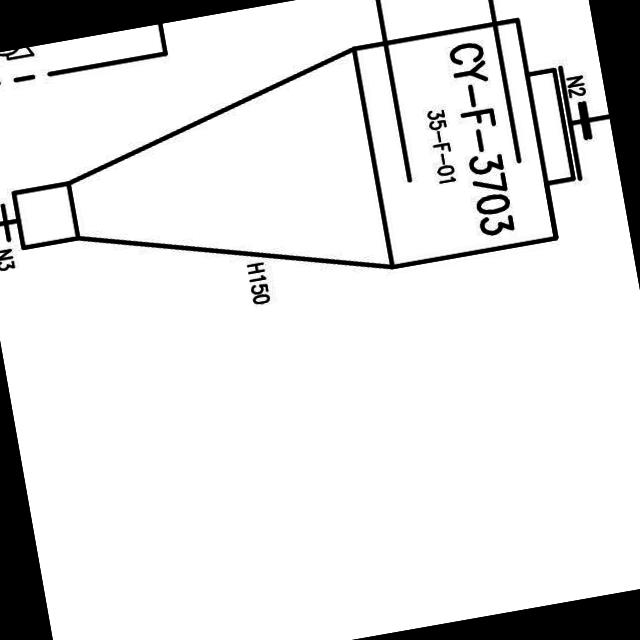CY: (0, 0, 598, 347)
